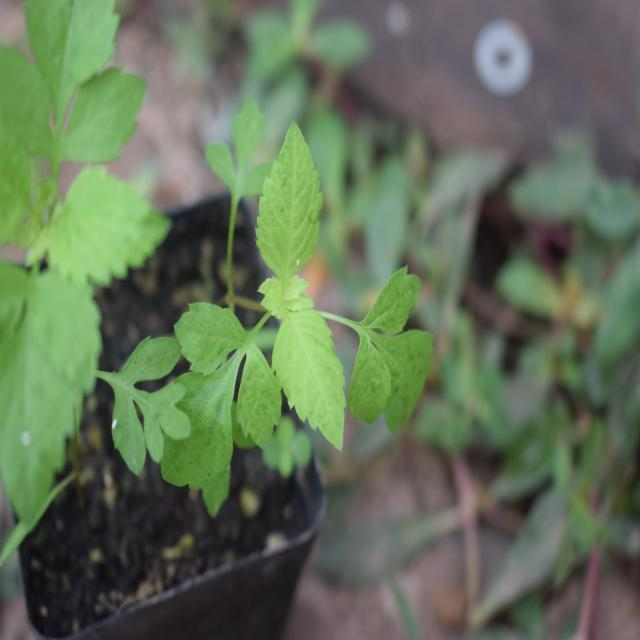Bidens pilosa: (143, 78, 432, 510)
